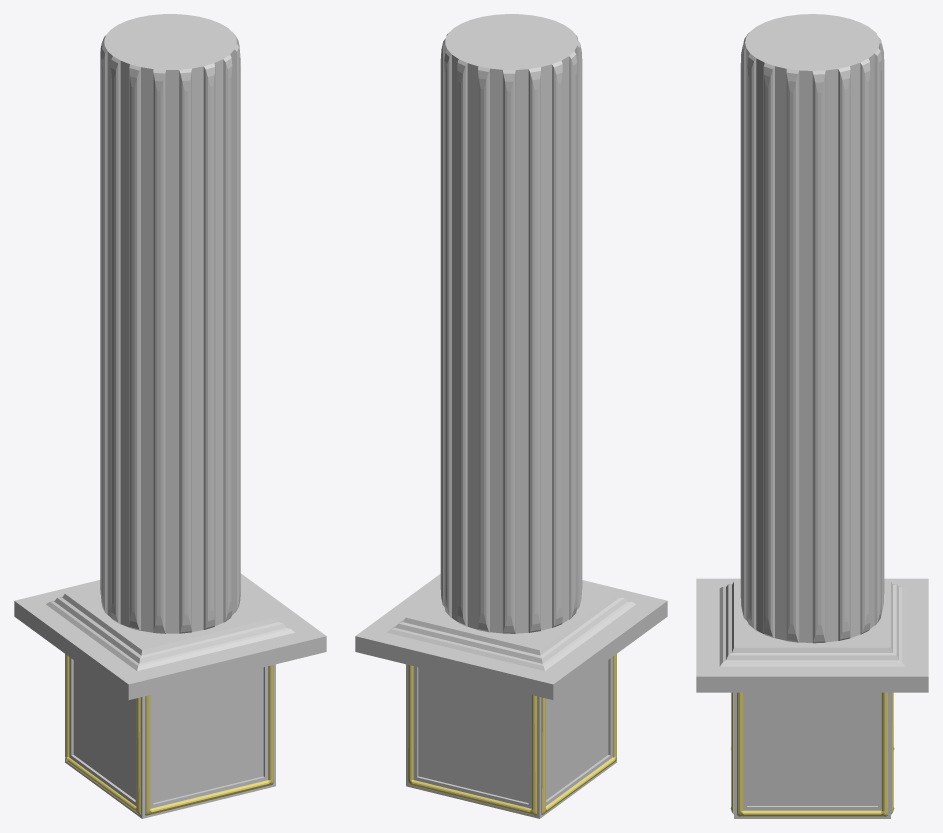
File: Column.fbx
3 views of the same model, side by side, from view 1: azimuth 30°, elevation 25°; view 2: azimuth 150°, elevation 25°; view 3: azimuth 270°, elevation 25° (orthographic).
Visible parts, largest first — view 1: column, base; view 2: column, base; view 3: column, base.
Part boxes in pixels (x1,y1,x2,y2): column: (100,14,240,633); base: (14,573,326,818); column: (440,14,582,633); base: (355,574,667,818); column: (740,14,884,643); base: (696,578,928,818).
Size of the model in its own units: 148 by 523 by 148.
